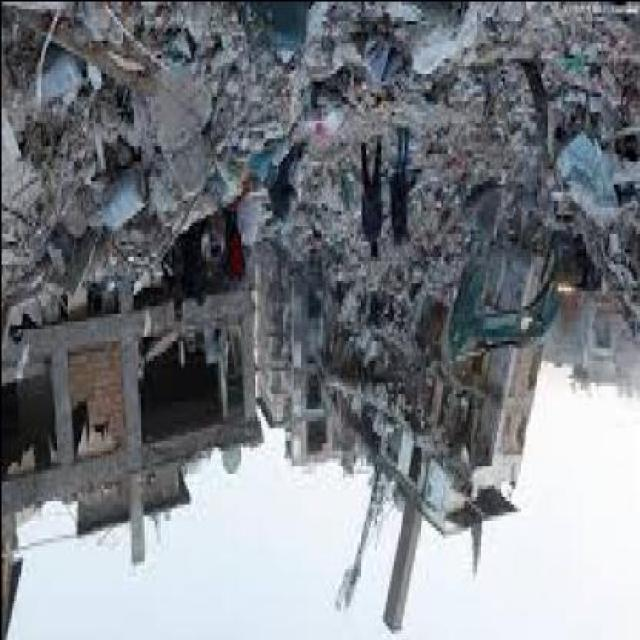Destroyed_building: (4, 3, 640, 630)
